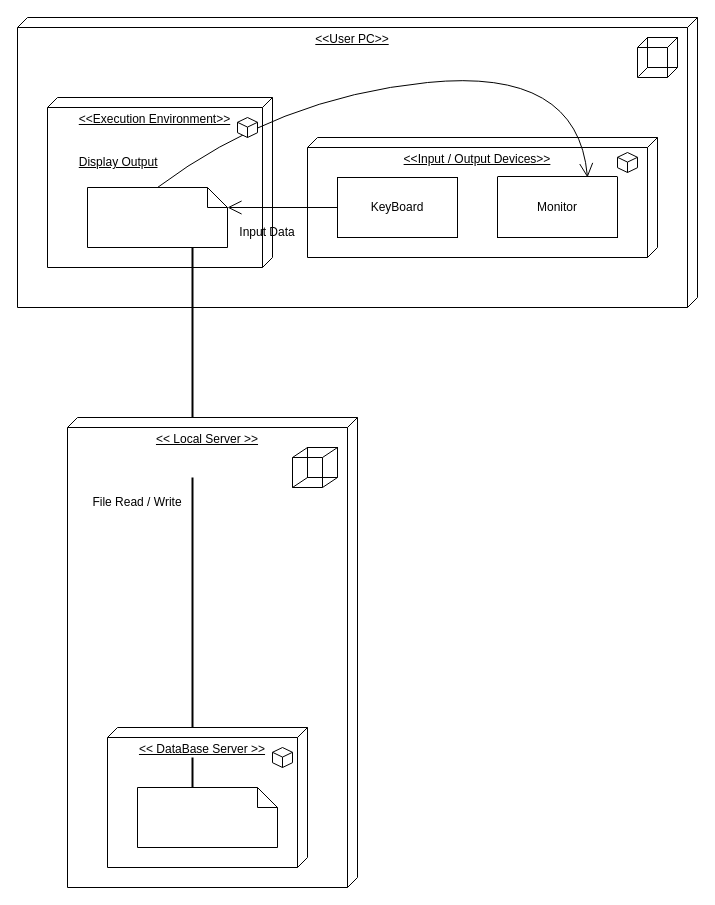
The diagram is 715 pixels wide and 905 high, and some of its shapes have lost their labels. The shapes that lost their labels are listed below. From the top down, each one's centre as x and y in pixels, then its label:
At point (157, 217): "index.cpp / .exe".
At point (207, 817): "DB Fiiles (.txt / .dat)".
